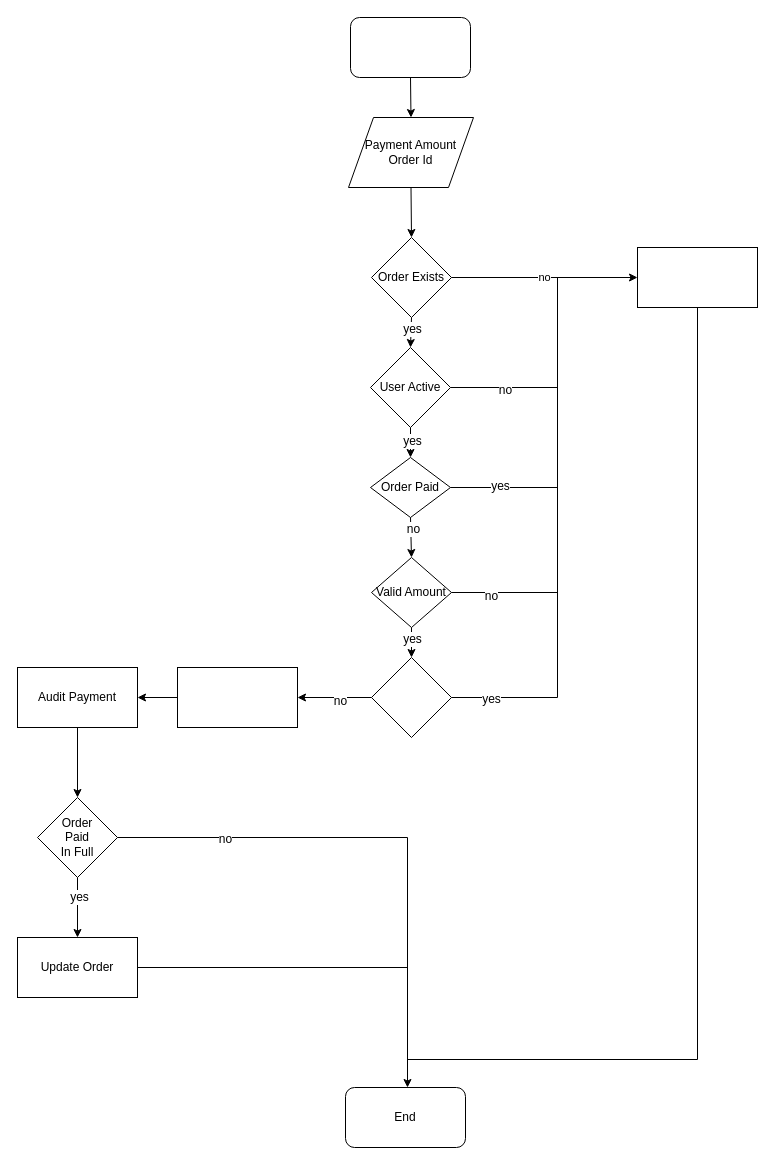
Image size: 775x1165. Some labels were removed from this diagram. The box of each missing label's shape, as (x1, y1, x2, y2) in pixels:
Amount exceeds balance: (370, 656, 452, 738)
Audit Failed Payment: (636, 246, 758, 308)
Register Payment: (176, 666, 298, 728)
Start: (350, 16, 470, 78)
